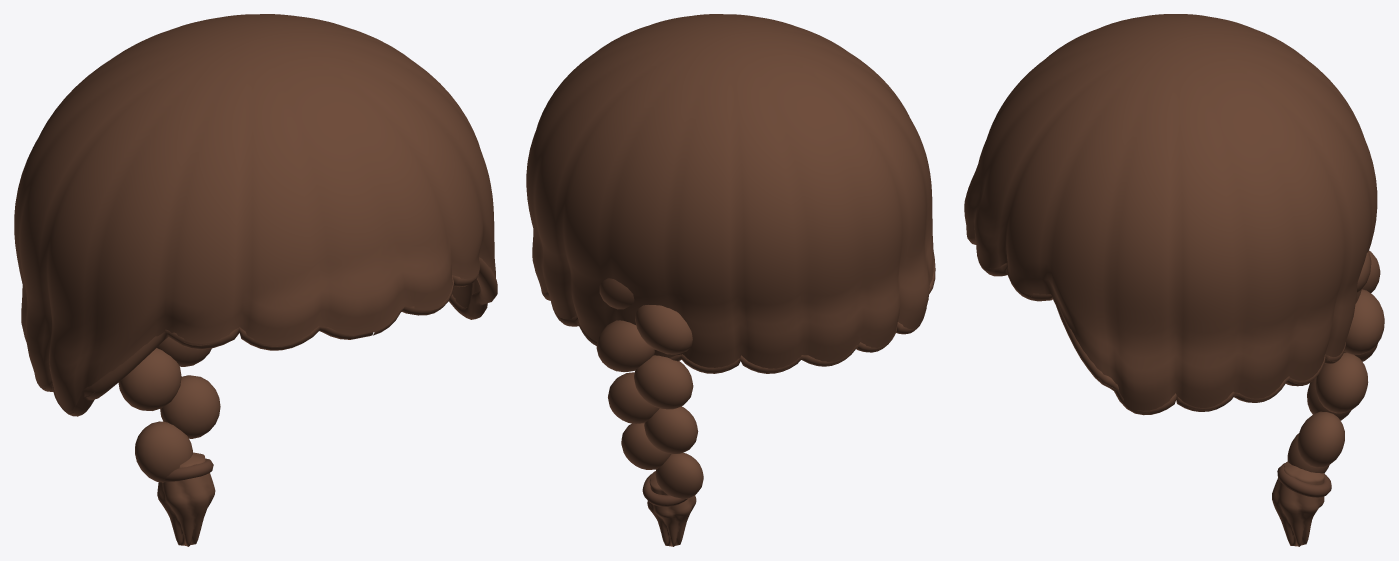
The model's file is hair_g_braid.glb.
The picture shows the model from 3 angles, left to right: view 1: azimuth 30°, elevation 25°; view 2: azimuth 150°, elevation 25°; view 3: azimuth 270°, elevation 25°; orthographic projection. The views are drawn at different scales.
Parts seen in each view (by area): view 1: Hair_G_BRAID; view 2: Hair_G_BRAID; view 3: Hair_G_BRAID.
Part boxes in pixels (x1,y1,x2,y2): Hair_G_BRAID: (14, 14, 497, 546); Hair_G_BRAID: (526, 14, 935, 546); Hair_G_BRAID: (964, 14, 1384, 546).
Bounding box in the file's own units: 0.6093 × 0.7602 × 0.5713.
